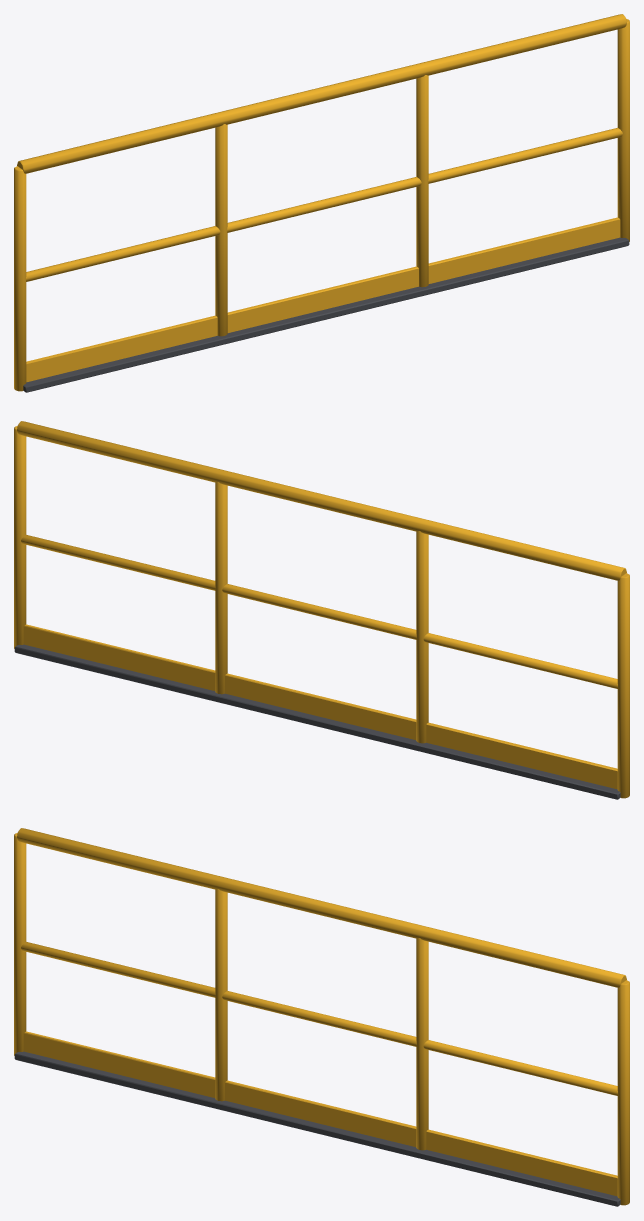
The model's file is Railing.glb.
3 renders of one model, top to bottom at view 1: azimuth 30°, elevation 25°; view 2: azimuth 150°, elevation 25°; view 3: azimuth 330°, elevation 25°, orthographic.
Parts seen in each view (by area): view 1: Railing; view 2: Railing; view 3: Railing.
Boxes of the visible parts, <box> form: Railing: <box>14,14,629,392</box>; Railing: <box>14,421,629,799</box>; Railing: <box>14,828,629,1206</box>.
Size of the model in its own units: 3.05 by 1.08 by 0.1.
